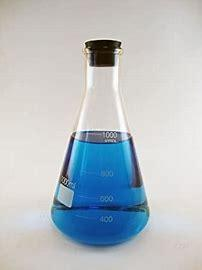Titrarion: (43, 16, 154, 245)
